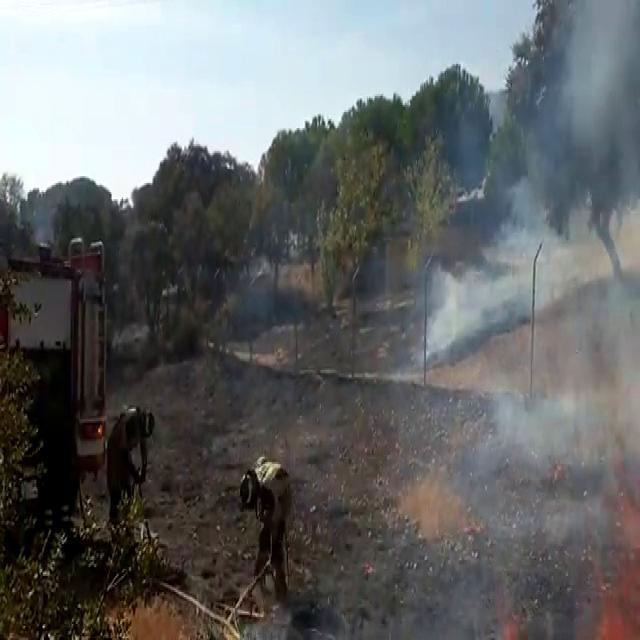Smoke: (423, 164, 578, 360), (526, 0, 640, 204)
